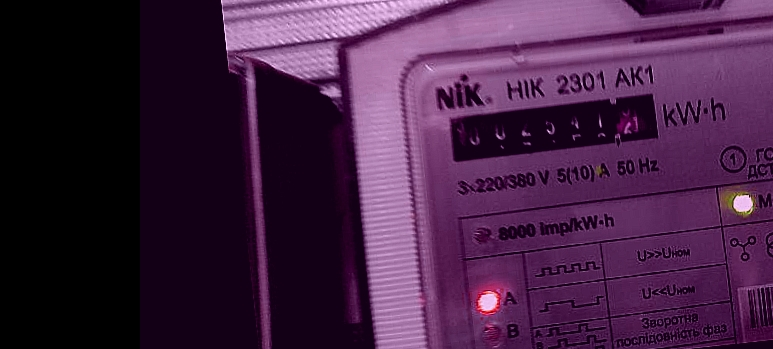0: (463, 120, 484, 147), (491, 114, 508, 142)
1: (590, 101, 606, 130)
2: (515, 111, 533, 138)
4: (566, 105, 582, 129)
5: (540, 107, 560, 137)
6: (619, 115, 636, 135)
screen: (435, 77, 674, 173)
